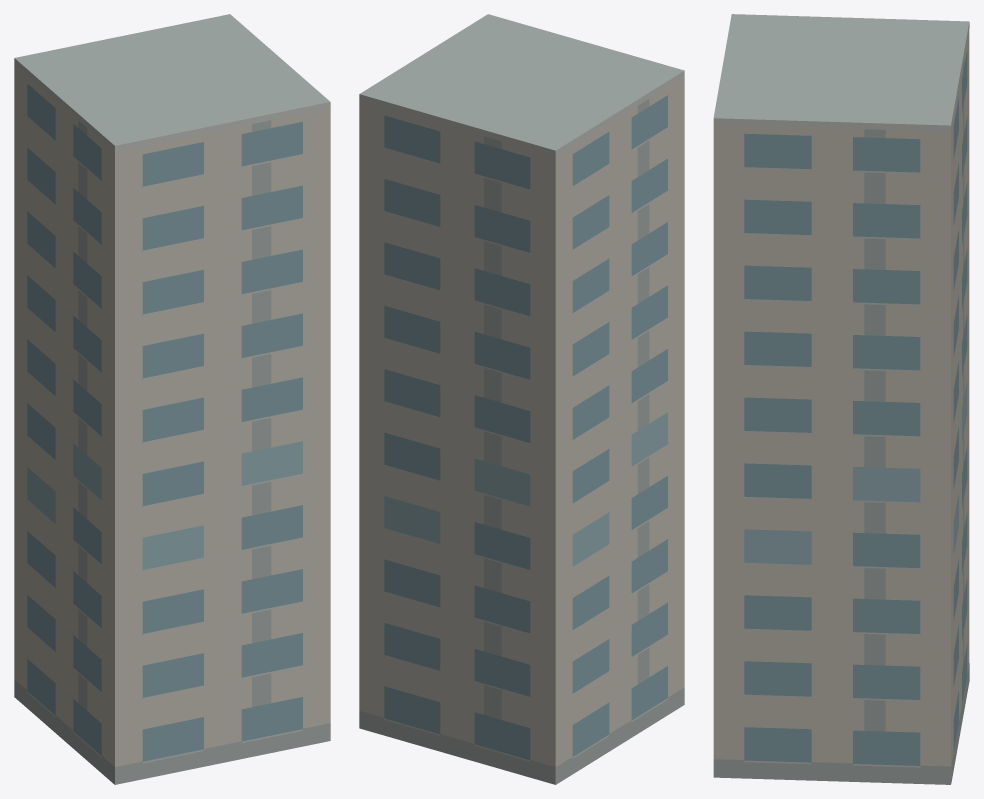
The model's file is residential-882b9720-4574-4e39-98c9-c86fc6ba25fe.glb.
3 views of the same model, side by side, from view 1: azimuth 30°, elevation 25°; view 2: azimuth 150°, elevation 25°; view 3: azimuth 270°, elevation 25° (orthographic). The views are drawn at different scales.
Visible parts, largest first — view 1: residential-882b9720-4574-4e39-98c9-c86fc6ba25fe.tmp; view 2: residential-882b9720-4574-4e39-98c9-c86fc6ba25fe.tmp; view 3: residential-882b9720-4574-4e39-98c9-c86fc6ba25fe.tmp.
Part boxes in pixels (x1=…): residential-882b9720-4574-4e39-98c9-c86fc6ba25fe.tmp: x1=14, y1=14, x2=330, y2=784; residential-882b9720-4574-4e39-98c9-c86fc6ba25fe.tmp: x1=359, y1=14, x2=684, y2=784; residential-882b9720-4574-4e39-98c9-c86fc6ba25fe.tmp: x1=713, y1=14, x2=969, y2=784.
Size of the model in its own units: 9.08 by 25 by 8.81.
